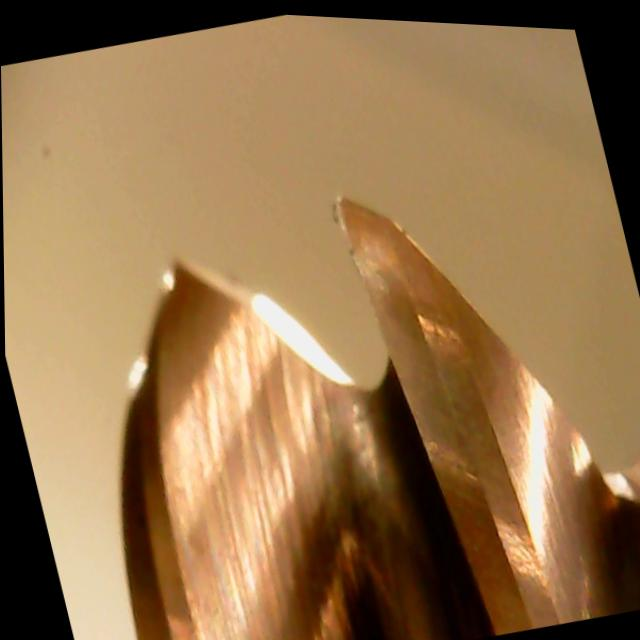Tool-wear-class-0: (323, 159, 518, 516)
